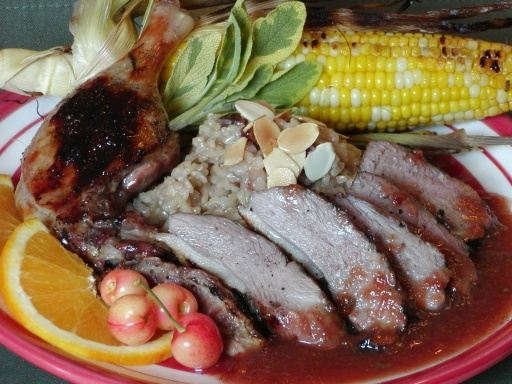background: (0, 0, 410, 221)
